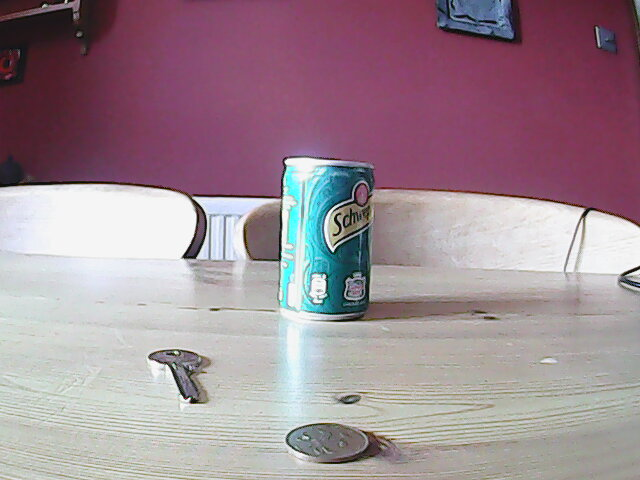Can: (276, 155, 378, 321)
Coin: (278, 418, 375, 468)
Key: (140, 346, 211, 407)
